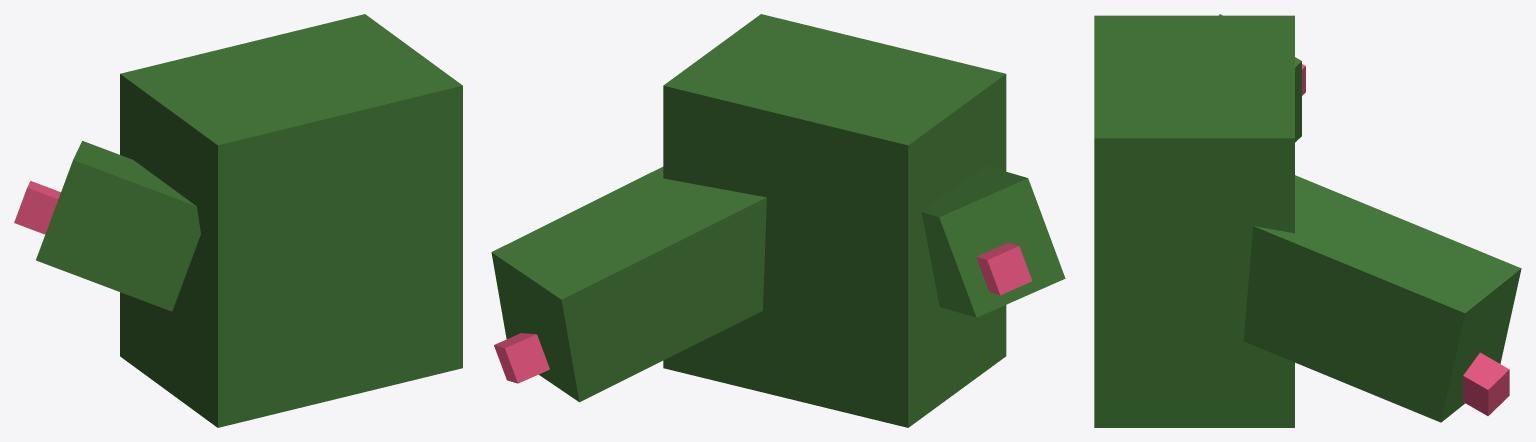
Rendered from Cacti 5.fbx.
3 renders of one model, left to right at view 1: azimuth 30°, elevation 25°; view 2: azimuth 150°, elevation 25°; view 3: azimuth 270°, elevation 25°, orthographic. The views are drawn at different scales.
Parts seen in each view (by area): view 1: Cactus 5; view 2: Cactus 5; view 3: Cactus 5.
Part boxes in pixels (box(x1,y1,x2,y2)): Cactus 5: box(14, 14, 462, 427); Cactus 5: box(491, 14, 1065, 427); Cactus 5: box(1094, 14, 1521, 427).
Bounding box in the file's own units: 134 × 79.64 × 106.
